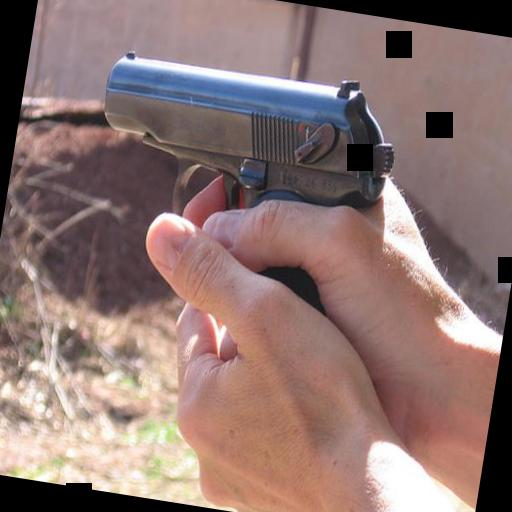Handgun: (72, 42, 404, 324)
